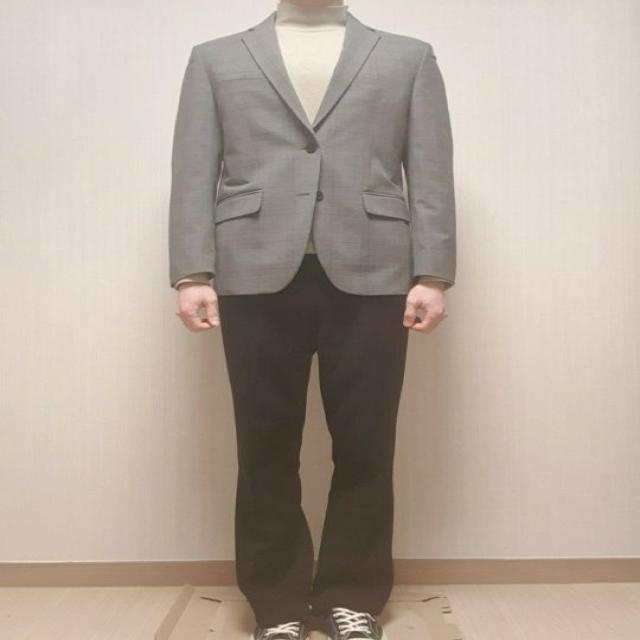blazer: (172, 6, 456, 296)
slacks: (208, 246, 412, 620)
